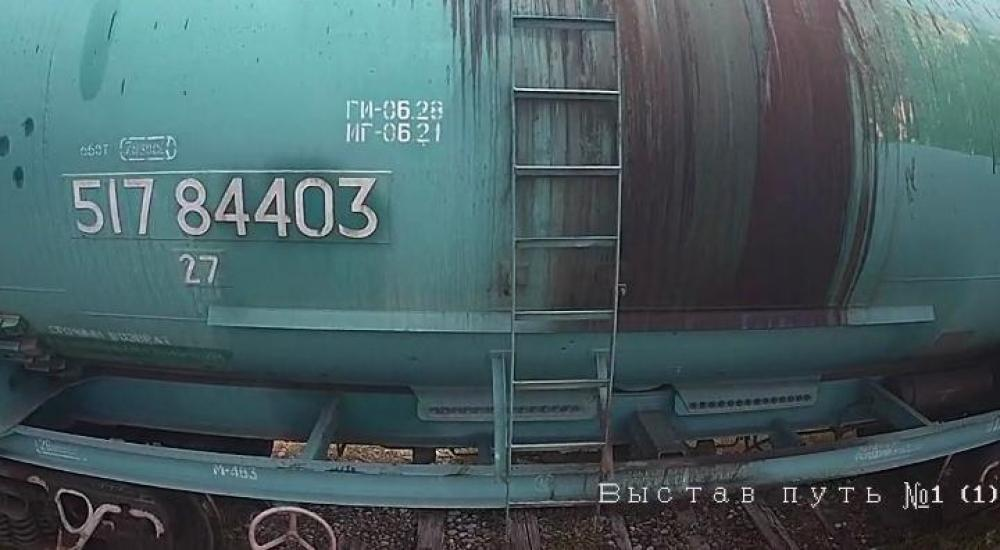Wagon-number: (61, 172, 388, 248)
